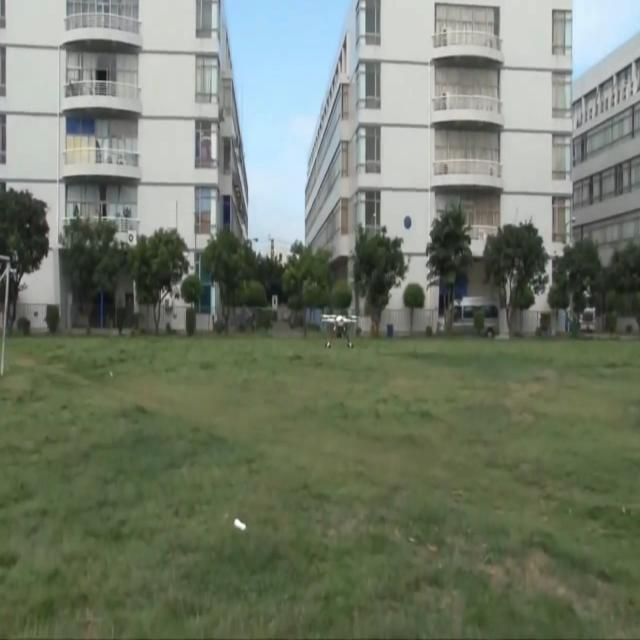drone: (320, 311, 358, 348)
